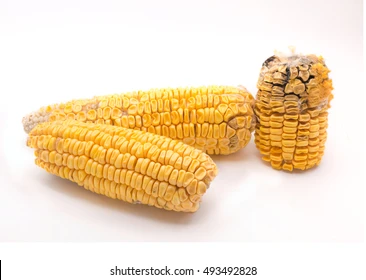rotten corn: (22, 38, 336, 221)
